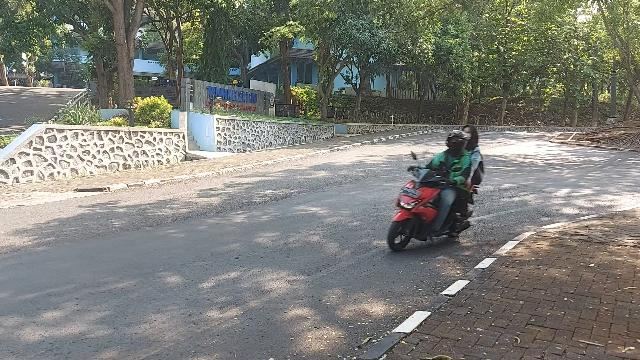helm: (448, 131, 469, 150)
motor: (389, 151, 479, 253)
non-helm: (465, 127, 478, 142)
